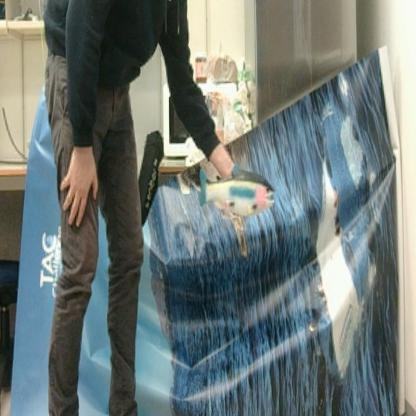rubberfish: (198, 164, 278, 218)
